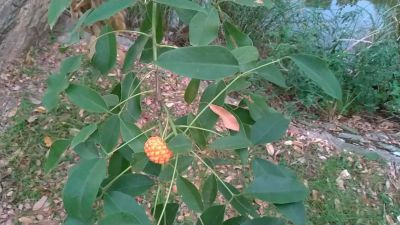eggs: (144, 136, 173, 164)
